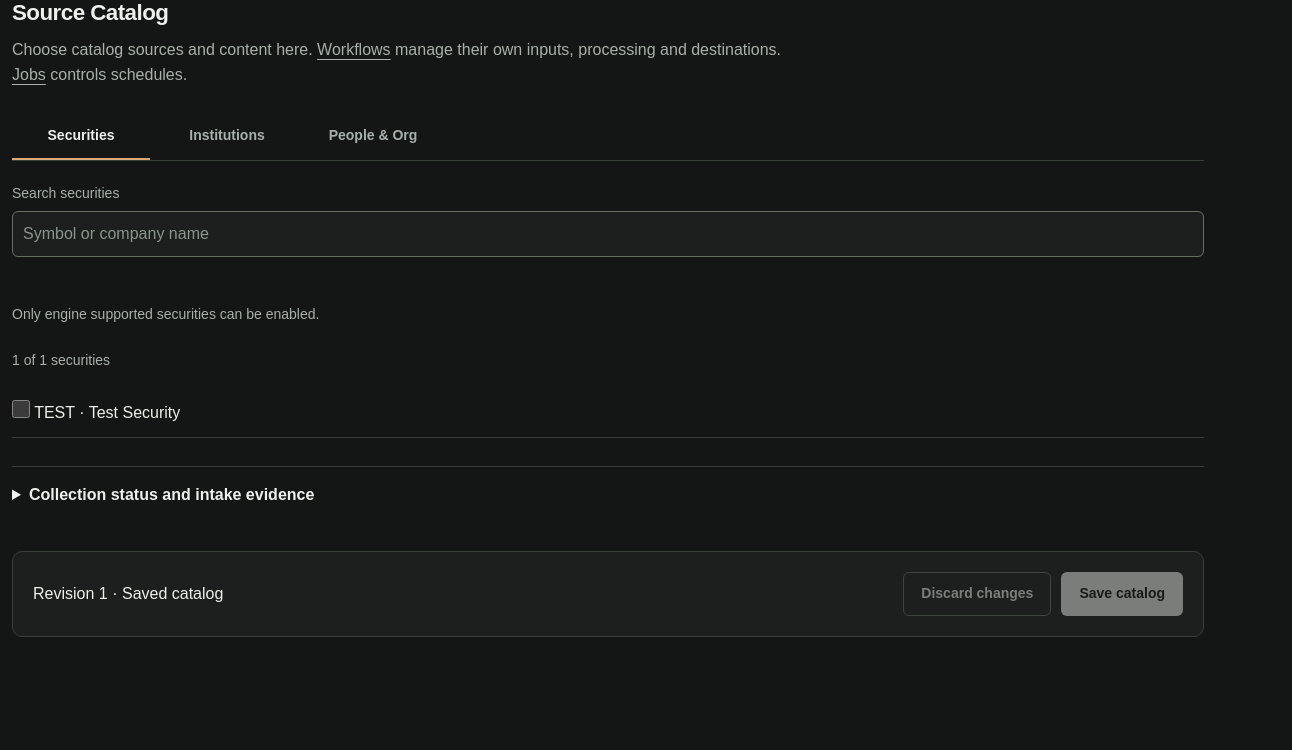
Test: SourceCatalogView › offers X Swing Chart Context while showing its unset state as off
The image size is (1292, 750).
Expected: the text "Revision 1 · Saved catalog" is shown, x1=33 y1=581 x2=223 y2=607
Click the tab "People & Org": [373, 136] box x1=304 y1=112 x2=442 y2=160
(page scrolled)
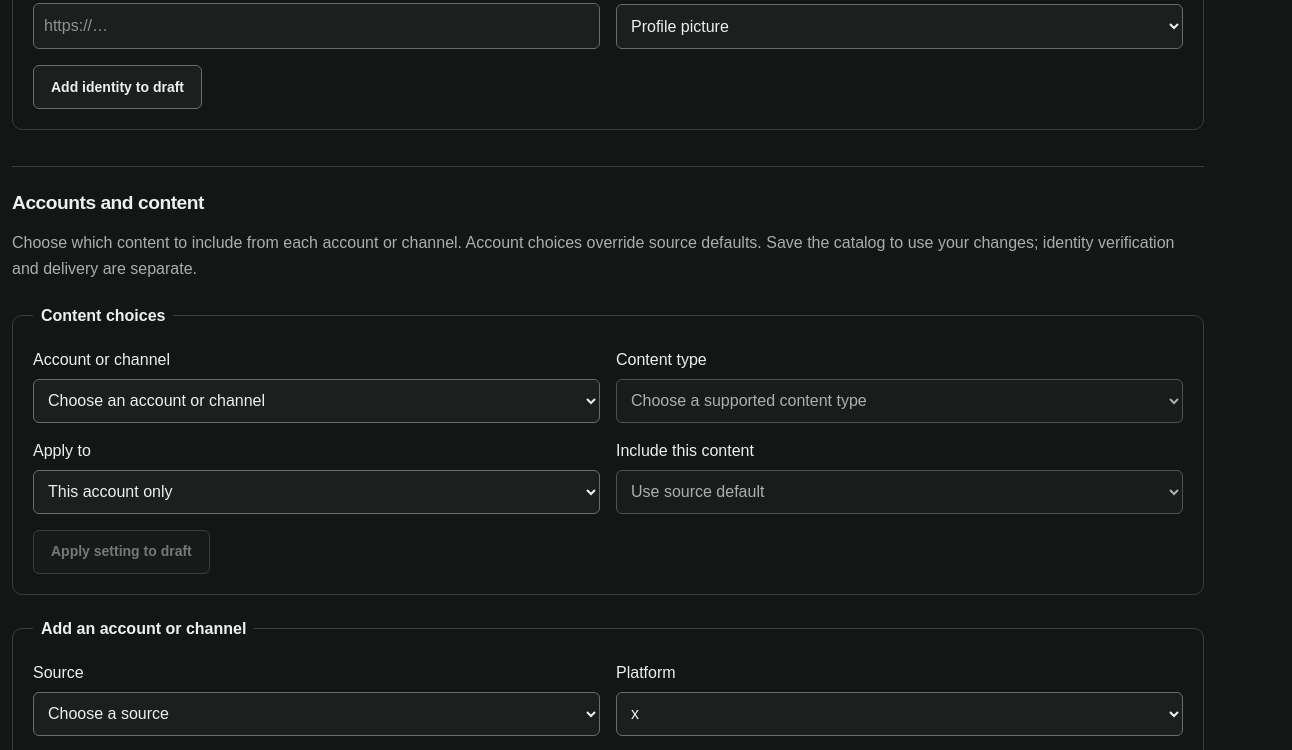
Select "My Group · x · test" in the dropdown named "Account or channel": [316, 401] box x1=33 y1=379 x2=600 y2=423
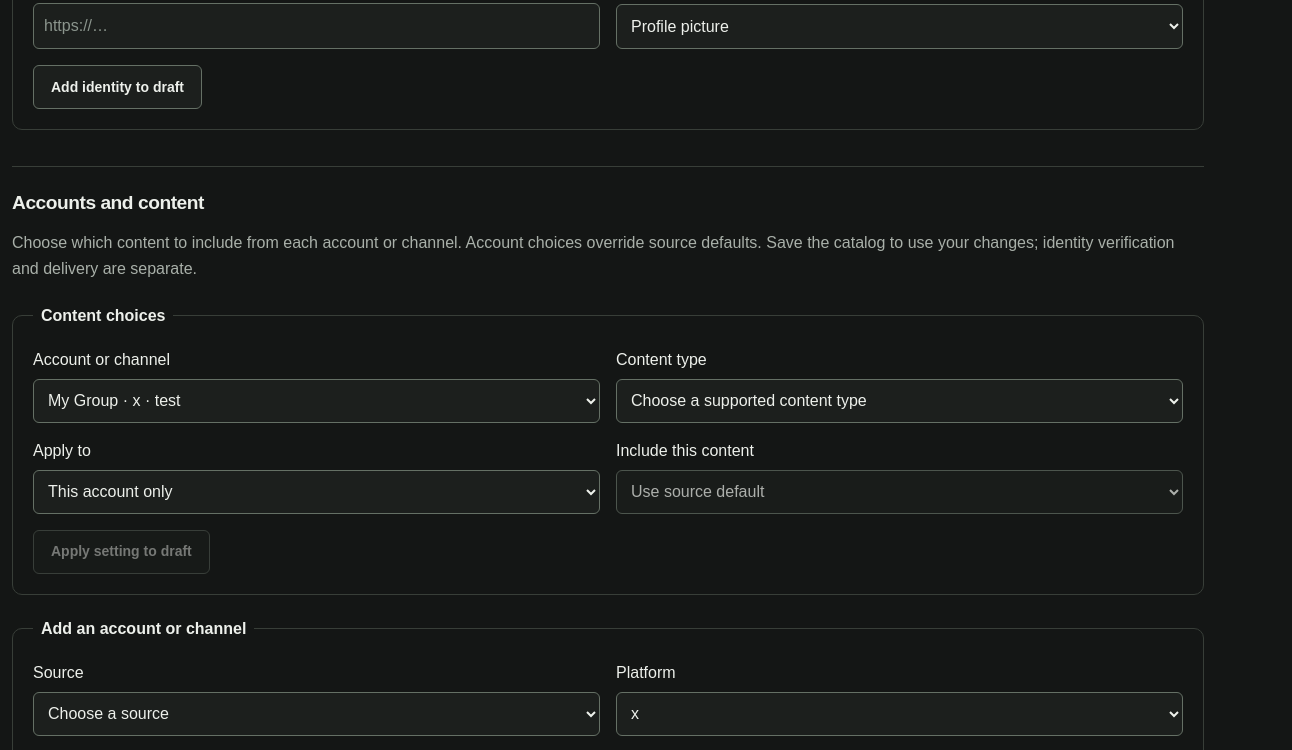
Select "Swing Chart Context" in the dropdown named "Content type": [900, 401] box x1=616 y1=379 x2=1183 y2=423
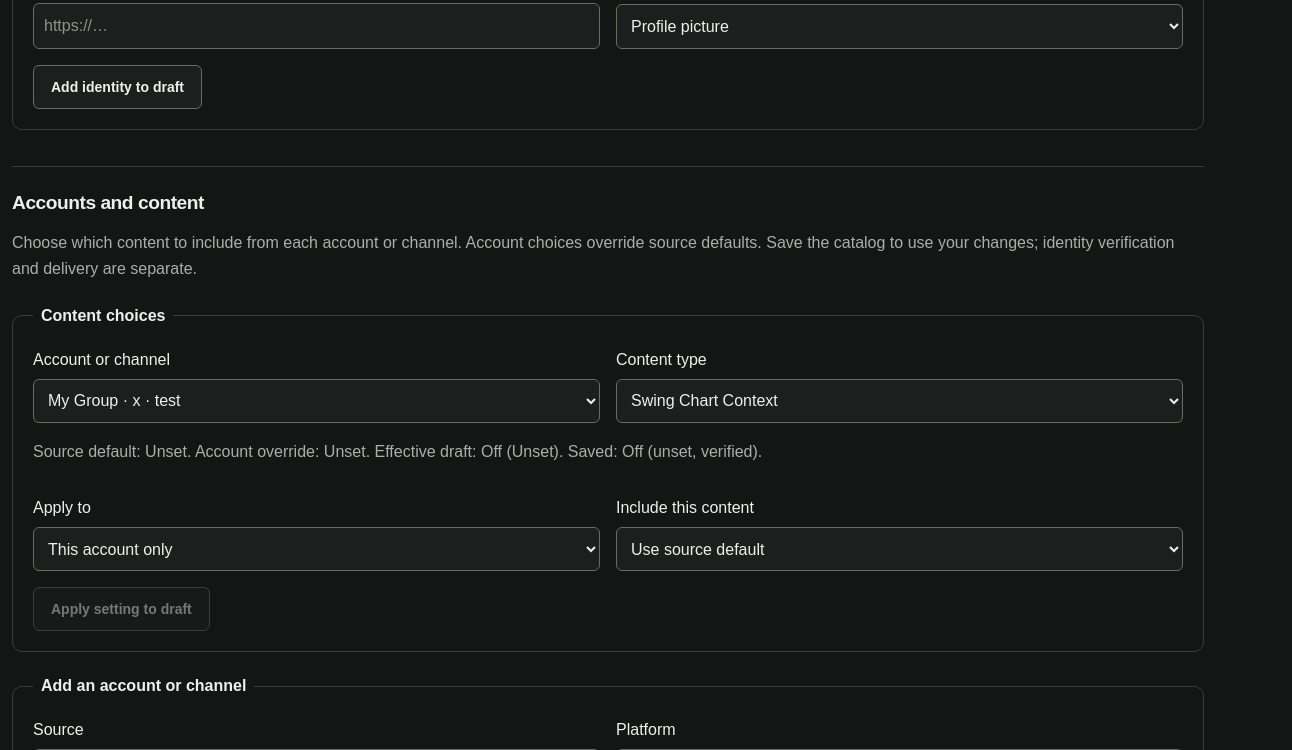
Result: the dropdown labelled "Include this content" shows "Use source default" at x1=616 y1=527 x2=1183 y2=571
Result: the element "Content choices" shows "Unset" at x1=145 y1=443 x2=187 y2=460
